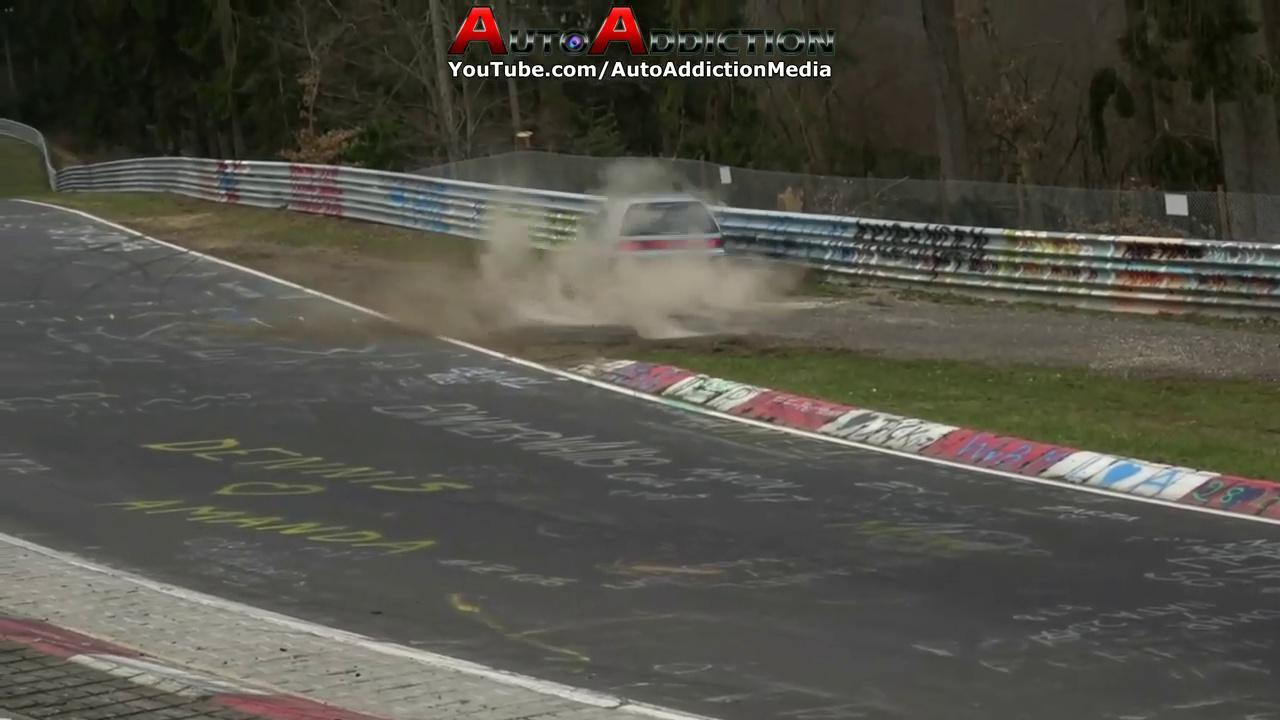car-accident: (452, 169, 891, 316)
